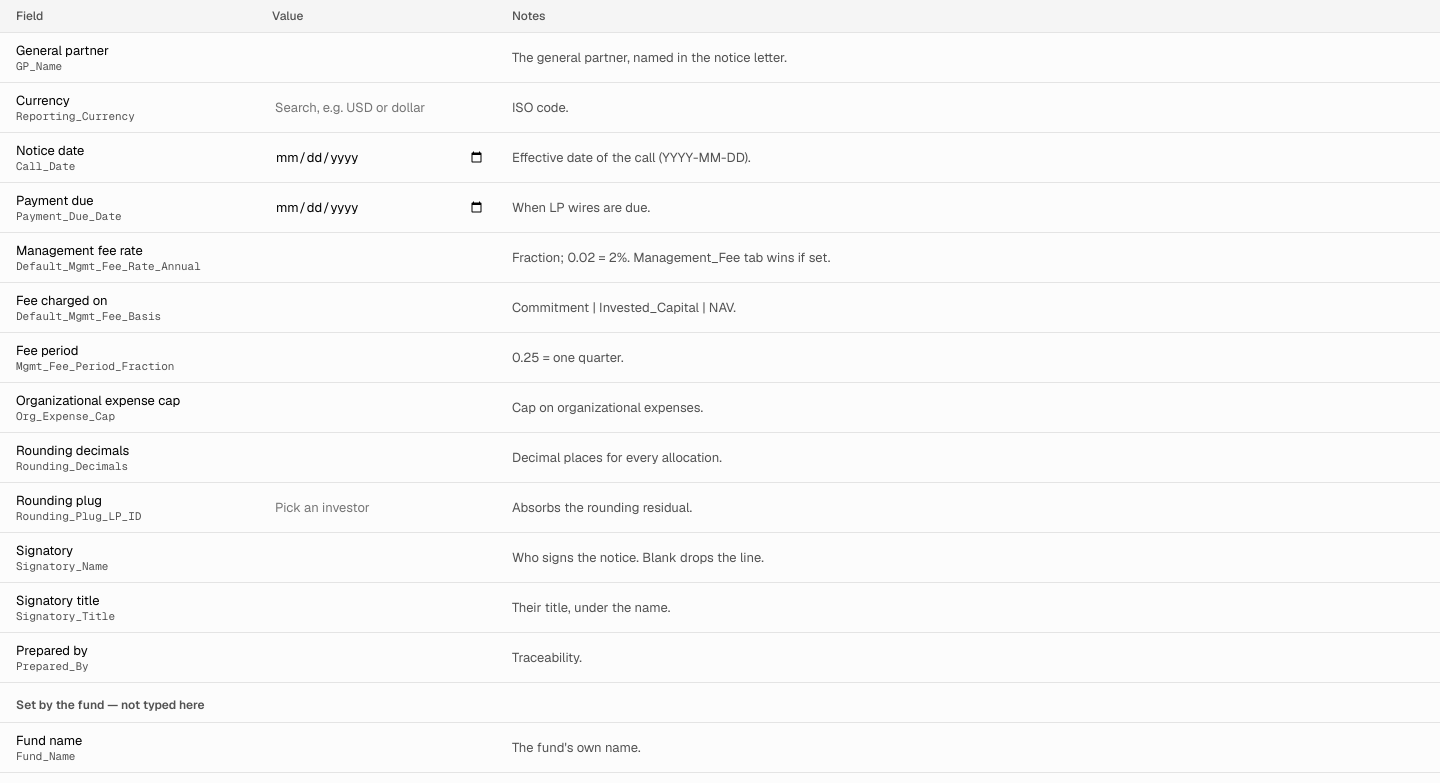
Test case: the rounding plug in call setup › offers only investors on the register
This screenshot has width=1440, height=783.
Click the dropdown named "Rounding_Plug_LP_ID" at (380, 508), box [266, 492, 494, 522]
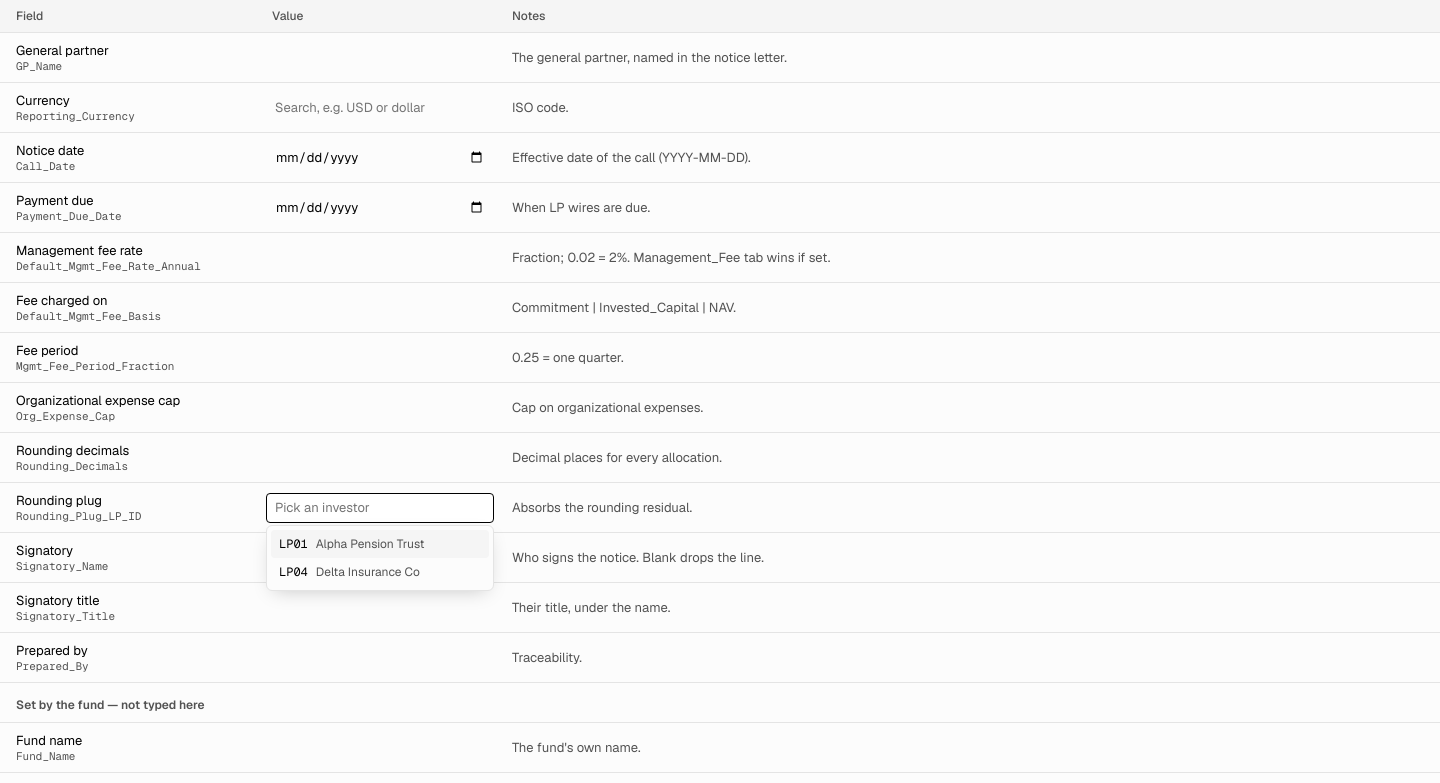
Expected: the options read "LP01Alpha Pension Trust", "LP04Delta Insurance Co", in this order, [271, 530, 489, 558]; [279, 564, 420, 580]
